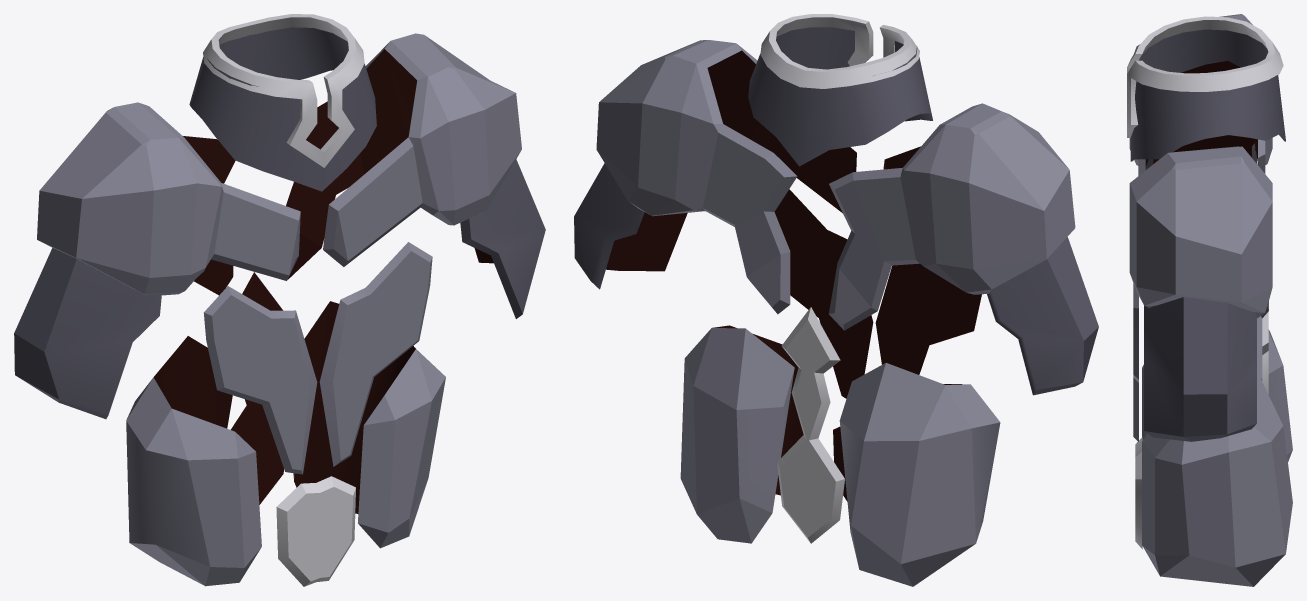
Rendered from armor.fbx.
3 renders of one model, left to right at view 1: azimuth 30°, elevation 25°; view 2: azimuth 150°, elevation 25°; view 3: azimuth 270°, elevation 25°, orthographic. The views are drawn at different scales.
Parts seen in each view (by area): view 1: armor; view 2: armor; view 3: armor.
Part boxes in pixels (x1,y1,x2,y2): armor: [14, 14, 545, 586]; armor: [574, 14, 1098, 586]; armor: [1127, 14, 1292, 586].
Size of the model in its own units: 79.64 by 76.29 by 23.01.
